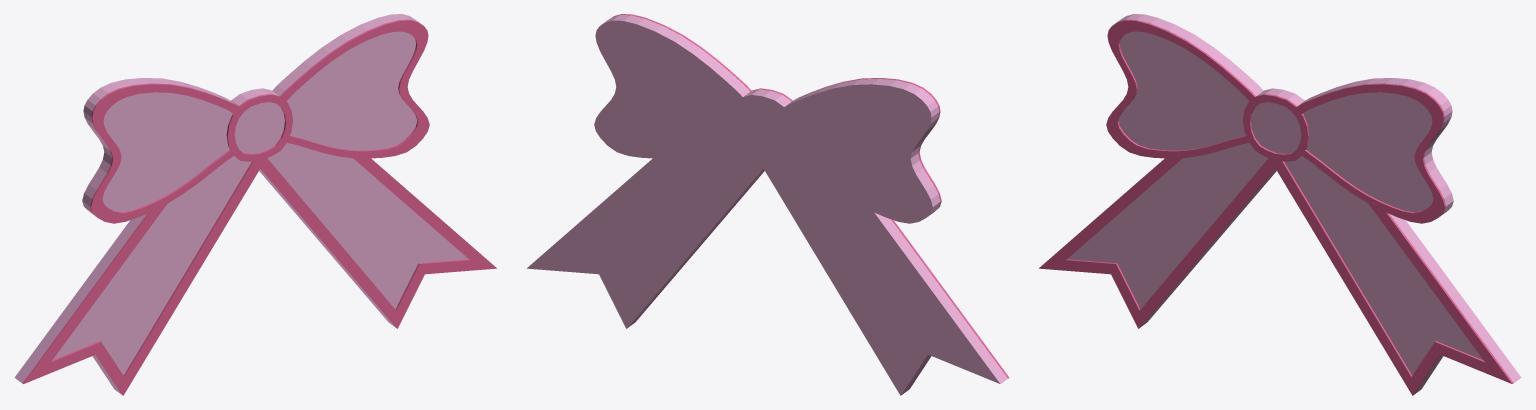
File: LED_ribbon.fbx
The picture shows the model from 3 angles, left to right: view 1: azimuth 30°, elevation 25°; view 2: azimuth 150°, elevation 25°; view 3: azimuth 330°, elevation 25°; orthographic projection.
Parts seen in each view (by area): view 1: ribbon, ribbon.001; view 2: ribbon, ribbon.001; view 3: ribbon, ribbon.001.
Boxes of the visible parts, bbox=[...] form: ribbon: bbox=[14, 14, 468, 394]; ribbon.001: bbox=[22, 19, 496, 395]; ribbon: bbox=[527, 15, 1007, 395]; ribbon.001: bbox=[613, 14, 1009, 389]; ribbon: bbox=[1067, 14, 1521, 394]; ribbon.001: bbox=[1039, 19, 1513, 395].
Bounding box in the file's own units: 462 × 286 × 15.19.
